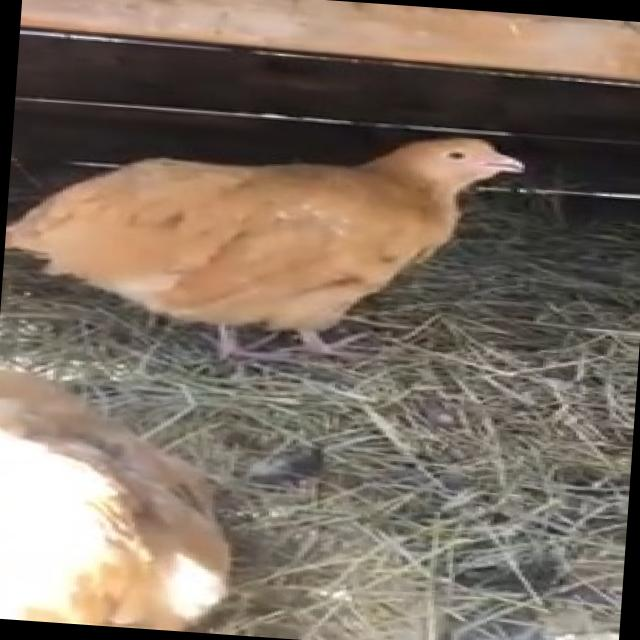Breathing: (1, 101, 533, 380)
